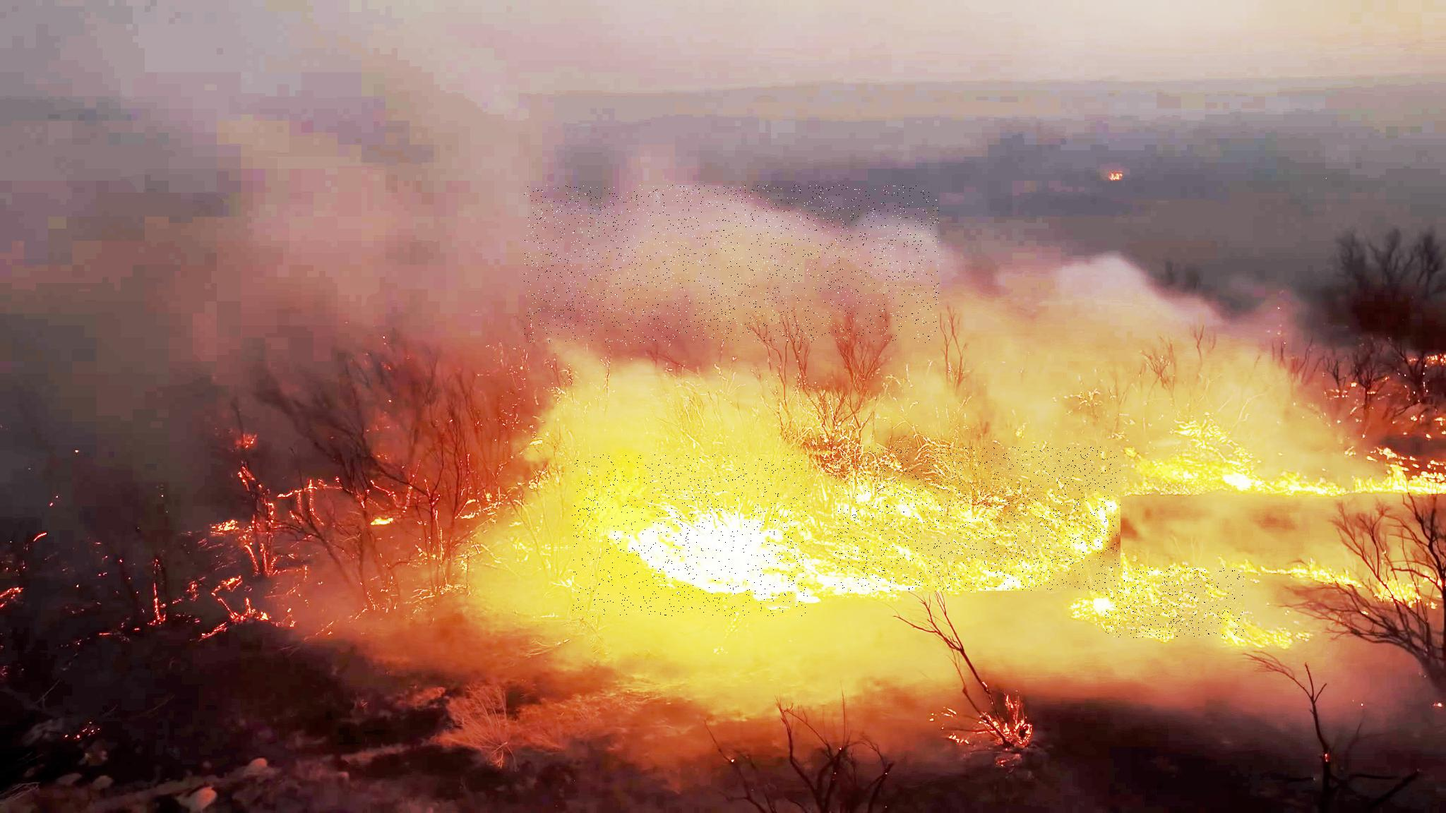fire: (834, 447, 1121, 591), (572, 454, 808, 617), (1106, 567, 1244, 638)
smoke: (524, 185, 939, 343)
